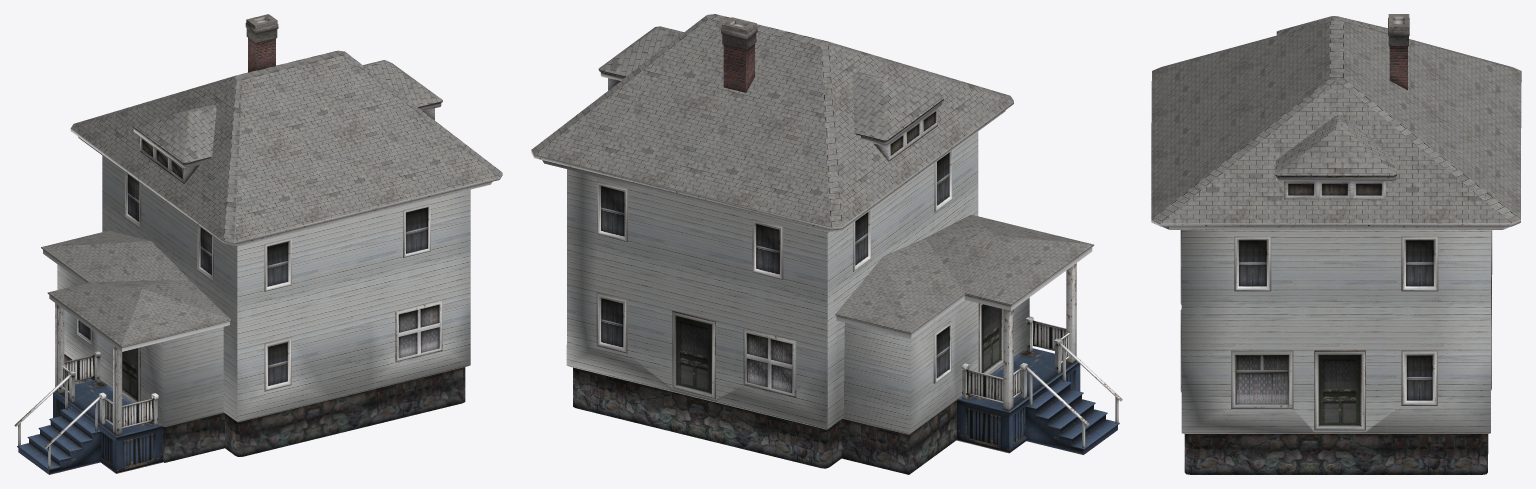
File: silhouette-house.glb
3 views of the same model, side by side, from view 1: azimuth 30°, elevation 25°; view 2: azimuth 150°, elevation 25°; view 3: azimuth 270°, elevation 25° (orthographic). The views are drawn at different scales.
Visible parts, largest first — view 1: house, house_Farm_house_D_0.034, house_Farm_house_D_0.030, house_Farm_house_D_0.033, house_Farm_house_D_0.035, house_Farm_house_D_0.036, house_Farm_house_D_0.009, house_Farm_house_D_0.010, house_Farm_house_D_0.002, house_Farm_house_D_0.031, house_Farm_house_D_0.025, house_Farm_house_D_0.001 (+3 smaller); view 2: house, house_Farm_house_D_0.034, house_Farm_house_D_0.030, house_Farm_house_D_0.033, house_Farm_house_D_0.035, house_Farm_house_D_0.036, house_Farm_house_D_0.009, house_Farm_house_D_0.002, house_Farm_house_D_0.010, house_Farm_house_D_0.031, house_Farm_house_D_0.025, house_Farm_house_D_0.003 (+3 smaller); view 3: house, house_Farm_house_D_0.034, house_Farm_house_D_0.030, house_Farm_house_D_0.025, house_Farm_house_D_0.026, house_Farm_house_D_0.031, house_Farm_house_D_0.002.
Boxes of the visible parts, x1=… form: house: x1=102, y1=155, x2=470, y2=422; house_Farm_house_D_0.034: x1=70, y1=50, x2=502, y2=245; house_Farm_house_D_0.030: x1=64, y1=354, x2=465, y2=462; house_Farm_house_D_0.033: x1=57, y1=264, x2=224, y2=426; house_Farm_house_D_0.035: x1=47, y1=280, x2=230, y2=351; house_Farm_house_D_0.036: x1=41, y1=230, x2=189, y2=283; house_Farm_house_D_0.009: x1=53, y1=380, x2=163, y2=473; house_Farm_house_D_0.010: x1=17, y1=408, x2=101, y2=474; house_Farm_house_D_0.002: x1=132, y1=104, x2=216, y2=167; house_Farm_house_D_0.031: x1=245, y1=14, x2=278, y2=72; house_Farm_house_D_0.025: x1=363, y1=60, x2=442, y2=110; house_Farm_house_D_0.001: x1=140, y1=136, x2=199, y2=183; house: x1=566, y1=131, x2=978, y2=429; house_Farm_house_D_0.034: x1=531, y1=14, x2=1013, y2=232; house_Farm_house_D_0.030: x1=573, y1=367, x2=956, y2=474; house_Farm_house_D_0.033: x1=842, y1=297, x2=1029, y2=434; house_Farm_house_D_0.035: x1=925, y1=214, x2=1094, y2=310; house_Farm_house_D_0.036: x1=835, y1=238, x2=965, y2=338; house_Farm_house_D_0.009: x1=956, y1=348, x2=1080, y2=453; house_Farm_house_D_0.002: x1=853, y1=72, x2=943, y2=145; house_Farm_house_D_0.010: x1=1025, y1=380, x2=1119, y2=454; house_Farm_house_D_0.031: x1=721, y1=17, x2=757, y2=92; house_Farm_house_D_0.025: x1=598, y1=26, x2=683, y2=80; house_Farm_house_D_0.003: x1=1003, y1=309, x2=1013, y2=410; house: x1=1180, y1=230, x2=1492, y2=433; house_Farm_house_D_0.034: x1=1151, y1=19, x2=1521, y2=229; house_Farm_house_D_0.030: x1=1184, y1=434, x2=1488, y2=474; house_Farm_house_D_0.025: x1=1275, y1=115, x2=1396, y2=181; house_Farm_house_D_0.026: x1=1284, y1=181, x2=1385, y2=199; house_Farm_house_D_0.031: x1=1388, y1=14, x2=1409, y2=90; house_Farm_house_D_0.002: x1=1276, y1=16, x2=1387, y2=35.
Size of the model in its own units: 124 by 97.6 by 83.42.
Materials: 3 (3 with a texture image).
